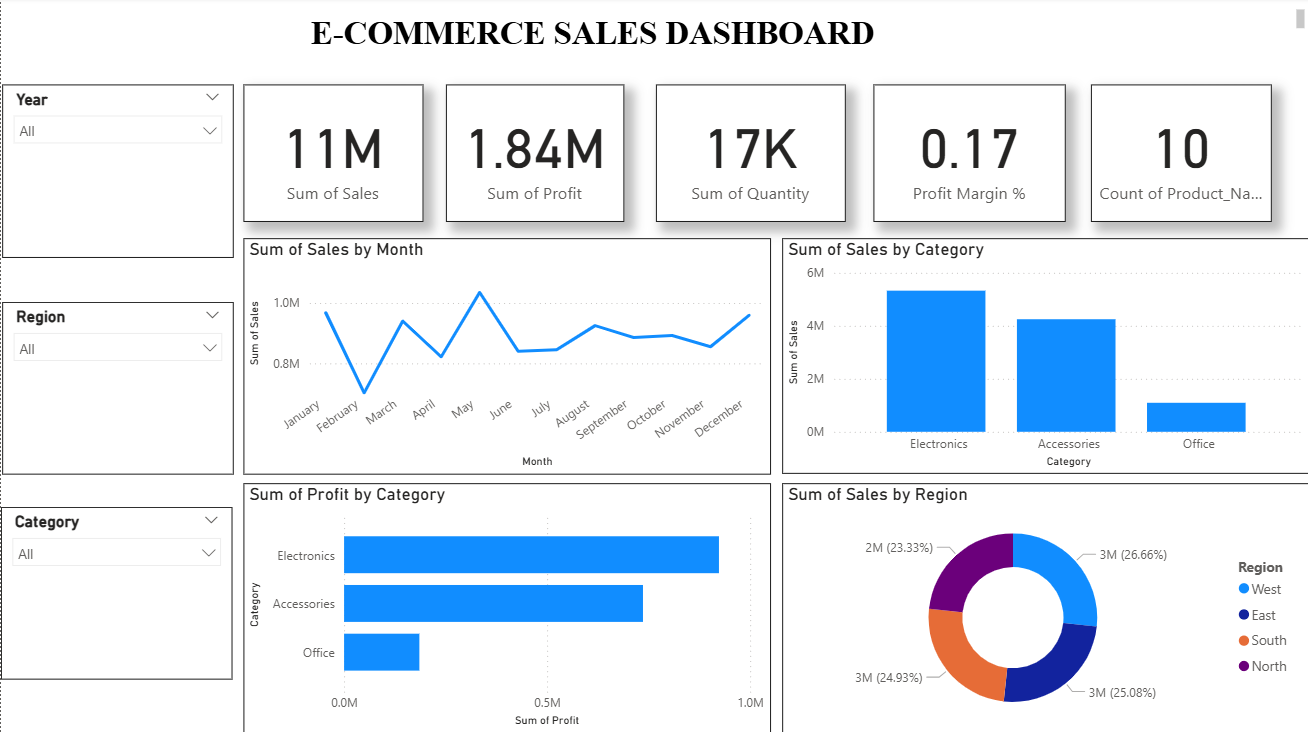

The dashboard page shown, as its layout file describes it:
{"tool":"powerbi","page":{"name":"        E-COMMERCE SALES ANALYTICS DASHBOARD","canvas":[1280,720],"ordinal":0},"visuals":[{"type":"card","fields":{"Values":["Sum(ecommerce_sales_cleaned.Sales)"]},"box":[237.4,85.1,175.6,134.5],"z":0},{"type":"card","fields":{"Values":["Sum(ecommerce_sales_cleaned.Profit)"]},"box":[435,85.1,174.3,134.5],"z":1000},{"type":"textbox","box":[0,6.9,1280.3,63.1],"z":2000},{"type":"card","fields":{"Values":["Sum(ecommerce_sales_cleaned.Quantity)"]},"box":[640.8,85.1,185.2,134.5],"z":3000},{"type":"card","fields":{"Values":["ecommerce_sales_cleaned.Profit Margin %"]},"box":[853.5,85.1,188,134.5],"z":4000},{"type":"card","fields":{"Values":["Count(ecommerce_sales_cleaned.Product_Name)"]},"box":[1066.2,85.1,177,134.5],"z":5000},{"type":"lineChart","fields":{"Y":["Sum(ecommerce_sales_cleaned.Sales)"],"Category":["ecommerce_sales_cleaned.Order_Date.Variation.Date Hierarchy.Month"]},"box":[237.2,236,516,231.1],"z":6000},{"type":"slicer","fields":{"Values":["ecommerce_sales_cleaned.Year"]},"box":[1.2,85.6,226.2,170],"z":7000},{"type":"slicer","fields":{"Values":["ecommerce_sales_cleaned.Region"]},"box":[1.2,298.4,226.2,168.8],"z":8000},{"type":"slicer","fields":{"Values":["ecommerce_sales_cleaned.Category"]},"box":[0,498.9,226.2,168.8],"z":9000},{"type":"clusteredColumnChart","fields":{"Category":["ecommerce_sales_cleaned.Category"],"Y":["Sum(ecommerce_sales_cleaned.Sales)"]},"box":[764.3,236,516,230.5],"z":10000},{"type":"clusteredBarChart","fields":{"Category":["ecommerce_sales_cleaned.Category"],"Y":["Sum(ecommerce_sales_cleaned.Profit)"]},"box":[237.2,475.7,516,244.6],"z":11000},{"type":"donutChart","fields":{"Y":["Sum(ecommerce_sales_cleaned.Sales)"],"Category":["ecommerce_sales_cleaned.Region"]},"box":[764.3,475.7,516,244.6],"z":12000}]}

Visuals, with their boxes in screenshot pixels (x1, y1, x2, y2), scaled from the page's 1280x720 canvas onto the 1308x732 screenshot:
card - Sum(ecommerce_sales_cleaned.Sales): BBox(243, 87, 422, 223)
card - Sum(ecommerce_sales_cleaned.Profit): BBox(445, 87, 623, 223)
textbox: BBox(0, 7, 1307, 71)
card - Sum(ecommerce_sales_cleaned.Quantity): BBox(655, 87, 844, 223)
card - ecommerce_sales_cleaned.Profit Margin %: BBox(872, 87, 1064, 223)
card - Count(ecommerce_sales_cleaned.Product_Name): BBox(1090, 87, 1270, 223)
lineChart - Sum(ecommerce_sales_cleaned.Sales) x ecommerce_sales_cleaned.Order_Date.Variation.Date Hierarchy.Month: BBox(242, 240, 770, 475)
slicer - ecommerce_sales_cleaned.Year: BBox(1, 87, 232, 260)
slicer - ecommerce_sales_cleaned.Region: BBox(1, 303, 232, 475)
slicer - ecommerce_sales_cleaned.Category: BBox(0, 507, 231, 679)
clusteredColumnChart - ecommerce_sales_cleaned.Category x Sum(ecommerce_sales_cleaned.Sales): BBox(781, 240, 1307, 474)
clusteredBarChart - ecommerce_sales_cleaned.Category x Sum(ecommerce_sales_cleaned.Profit): BBox(242, 484, 770, 731)
donutChart - Sum(ecommerce_sales_cleaned.Sales) x ecommerce_sales_cleaned.Region: BBox(781, 484, 1307, 731)
